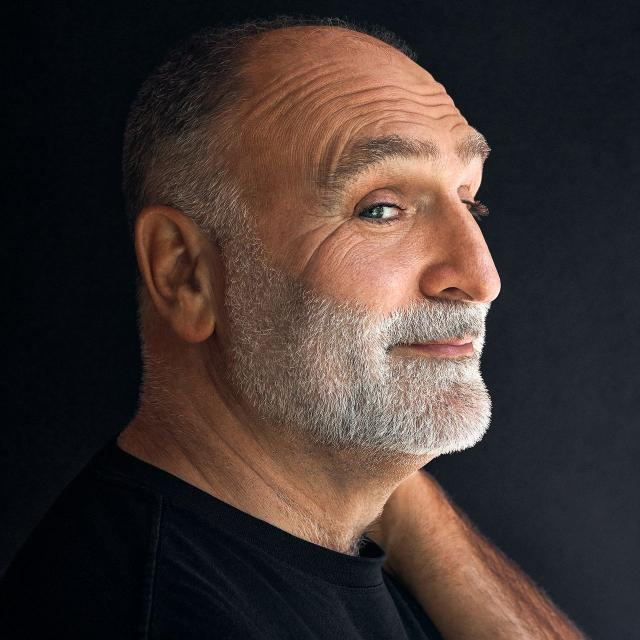crows_feet: (311, 212, 354, 264)
forehead: (345, 80, 409, 124), (272, 68, 336, 104), (422, 88, 470, 136)
